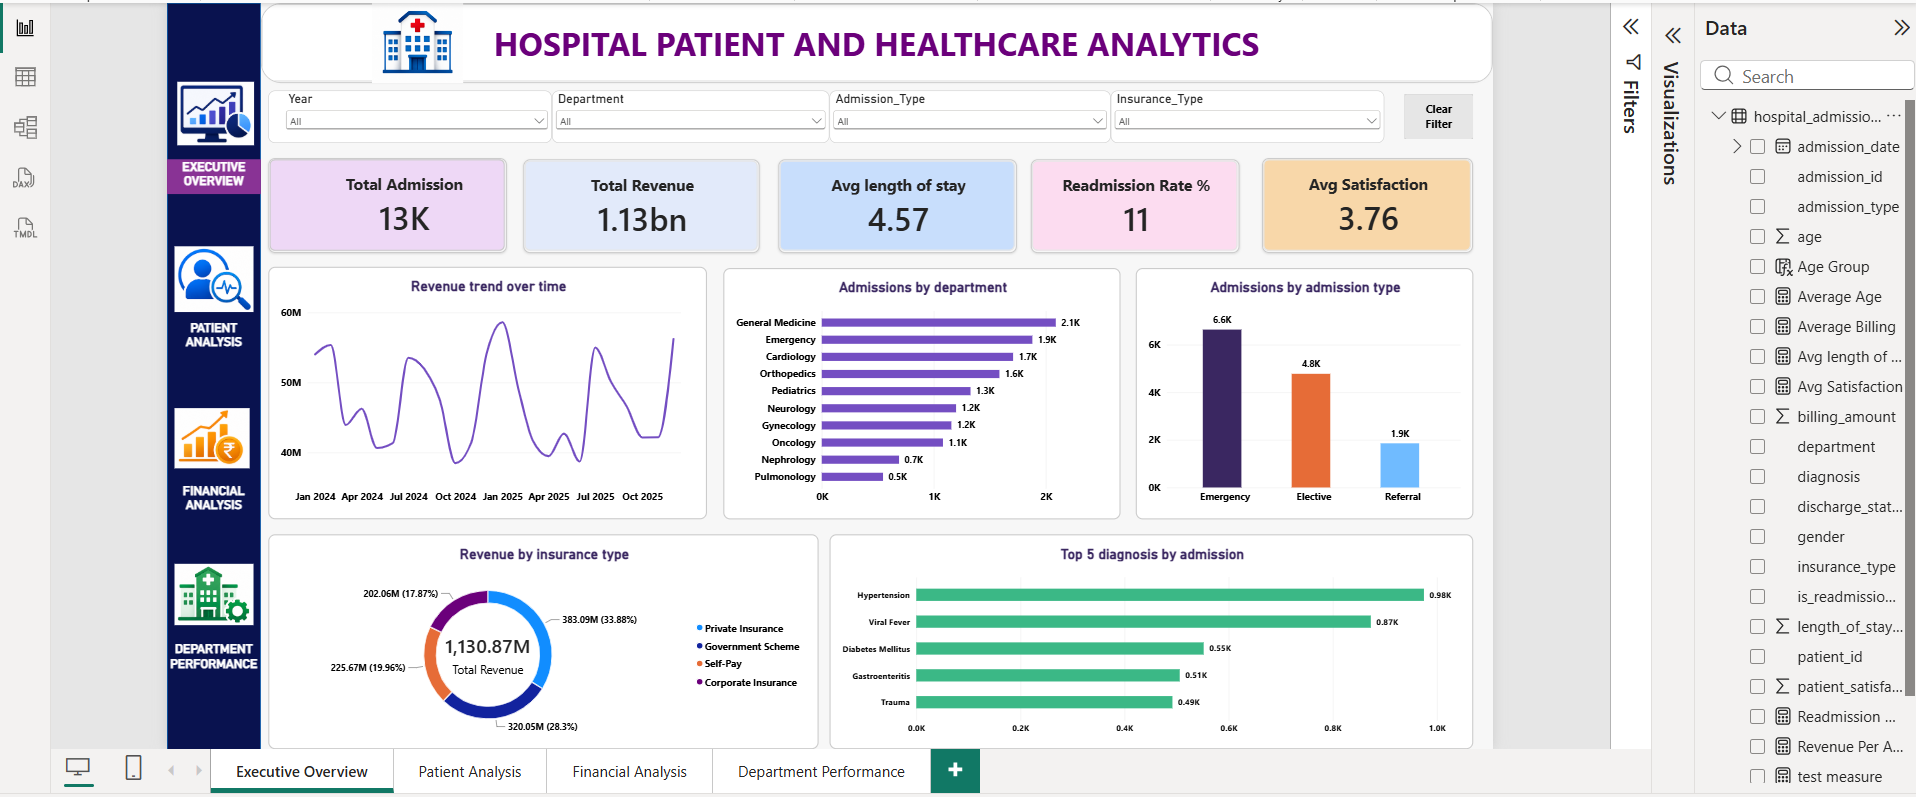

Layout of this report page (visuals, bound fields, positions):
{"tool":"powerbi","page":{"name":"Executive Overview","canvas":[1920,1080],"ordinal":0},"visuals":[{"type":"shape","box":[135.7,0,1784.3,115.8],"z":0},{"type":"shape","box":[0,0,135.7,1081],"z":1000},{"type":"cardVisual","fields":{"Data":["hospital_admissions_data.Total Admission"]},"box":[146.6,224.4,345.6,137.5],"z":2000},{"type":"cardVisual","fields":{"Data":["hospital_admissions_data.Total Revenue"]},"box":[515.8,226.2,342,135.7],"z":3000},{"type":"cardVisual","fields":{"Data":["hospital_admissions_data.Avg length of stay"]},"box":[884.9,226.2,345.6,135.7],"z":4000},{"type":"cardVisual","fields":{"Data":["hospital_admissions_data.Readmission Rate %"]},"box":[1250.5,226.2,302.2,135.7],"z":5000},{"type":"cardVisual","fields":{"Data":["hospital_admissions_data.Avg Satisfaction"]},"box":[1585.3,224.4,305.8,137.5],"z":6000},{"type":"slicer","fields":{"Values":["hospital_admissions_data.department"]},"box":[557.4,126.7,401.7,76],"z":7000},{"type":"slicer","fields":{"Values":["hospital_admissions_data.admission_date.Variation.Date Hierarchy.Year"]},"box":[146.6,126.7,410.8,76],"z":8000},{"type":"slicer","fields":{"Values":["hospital_admissions_data.admission_type"]},"box":[959.1,126.7,407.2,76],"z":9000},{"type":"slicer","fields":{"Values":["hospital_admissions_data.insurance_type"]},"box":[1366.3,126.7,396.3,76],"z":10000},{"type":"lineChart","title":"Revenue trend over time","fields":{"Y":["hospital_admissions_data.Total Revenue"],"Category":["hospital_admissions_data.admission_date.Variation.Date Hierarchy.Year","hospital_admissions_data.admission_date.Variation.Date Hierarchy.Month"]},"box":[146.6,381.8,635.2,365.6],"z":11000},{"type":"clusteredBarChart","title":"Admissions by department","fields":{"Category":["hospital_admissions_data.department"],"Y":["hospital_admissions_data.Total Admission"]},"box":[805.3,383.6,575.5,363.7],"z":12000},{"type":"clusteredColumnChart","title":"Admissions by admission type","fields":{"Category":["hospital_admissions_data.admission_type"],"Y":["hospital_admissions_data.Total Admission"]},"box":[1402.5,383.6,488.6,363.7],"z":13000},{"type":"donutChart","title":"Revenue by insurance type","fields":{"Category":["hospital_admissions_data.insurance_type"],"Y":["hospital_admissions_data.Total Revenue"]},"box":[146.6,769.1,796.8,311.6],"z":14000},{"type":"clusteredBarChart","title":"Top 5 diagnosis by admission","fields":{"Category":["hospital_admissions_data.diagnosis"],"Y":["hospital_admissions_data.Total Admission"]},"box":[959.1,769.1,932,311.3],"z":15000},{"type":"actionButton","box":[1791.6,132.1,99.5,65.1],"z":16000},{"type":"image","box":[255.2,0,215.3,115.8],"z":17000},{"type":"textbox","title":"EXECUTIVE    OVERVIEW","box":[0,225.4,135.7,50.1],"z":18000},{"type":"textbox","title":"PATIENT ANALYSIS","box":[0,459.1,135.7,50.1],"z":19000},{"type":"textbox","title":"FINANCIAL ANALYSIS","box":[0,695,135.7,52.2],"z":20000},{"type":"textbox","title":"DEPARTMENT PERFORMANCE","box":[0,924.5,135.7,50.1],"z":21000},{"type":"image","box":[10.4,340.2,114.8,119],"z":22000},{"type":"image","box":[10.4,114.8,119,91.8],"z":23000},{"type":"image","box":[10.4,580.2,108.5,98.1],"z":24000},{"type":"image","box":[10.4,807.7,114.8,98.1],"z":25000}]}

Visuals, with their boxes on the page's 1920x1080 design canvas (x1, y1, x2, y2). These are canvas units, not pixel positions in the 1916x797 screenshot, which may show the page scaled, cropped or inside an application window:
shape: crop(136, 0, 1920, 116)
shape: crop(0, 0, 136, 1081)
cardVisual - hospital_admissions_data.Total Admission: crop(147, 224, 492, 362)
cardVisual - hospital_admissions_data.Total Revenue: crop(516, 226, 858, 362)
cardVisual - hospital_admissions_data.Avg length of stay: crop(885, 226, 1230, 362)
cardVisual - hospital_admissions_data.Readmission Rate %: crop(1250, 226, 1553, 362)
cardVisual - hospital_admissions_data.Avg Satisfaction: crop(1585, 224, 1891, 362)
slicer - hospital_admissions_data.department: crop(557, 127, 959, 203)
slicer - hospital_admissions_data.admission_date.Variation.Date Hierarchy.Year: crop(147, 127, 557, 203)
slicer - hospital_admissions_data.admission_type: crop(959, 127, 1366, 203)
slicer - hospital_admissions_data.insurance_type: crop(1366, 127, 1763, 203)
"Revenue trend over time" lineChart: crop(147, 382, 782, 747)
"Admissions by department" clusteredBarChart: crop(805, 384, 1381, 747)
"Admissions by admission type" clusteredColumnChart: crop(1402, 384, 1891, 747)
"Revenue by insurance type" donutChart: crop(147, 769, 943, 1081)
"Top 5 diagnosis by admission" clusteredBarChart: crop(959, 769, 1891, 1080)
actionButton: crop(1792, 132, 1891, 197)
image: crop(255, 0, 470, 116)
"EXECUTIVE    OVERVIEW" textbox: crop(0, 225, 136, 276)
"PATIENT ANALYSIS" textbox: crop(0, 459, 136, 509)
"FINANCIAL ANALYSIS" textbox: crop(0, 695, 136, 747)
"DEPARTMENT PERFORMANCE" textbox: crop(0, 924, 136, 975)
image: crop(10, 340, 125, 459)
image: crop(10, 115, 129, 207)
image: crop(10, 580, 119, 678)
image: crop(10, 808, 125, 906)
